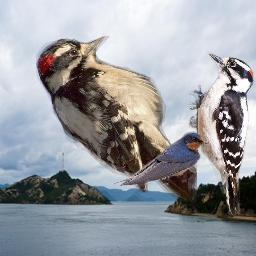Swallow: (109, 131, 208, 187)
Woodpecker: (36, 36, 197, 202), (189, 52, 255, 219)
